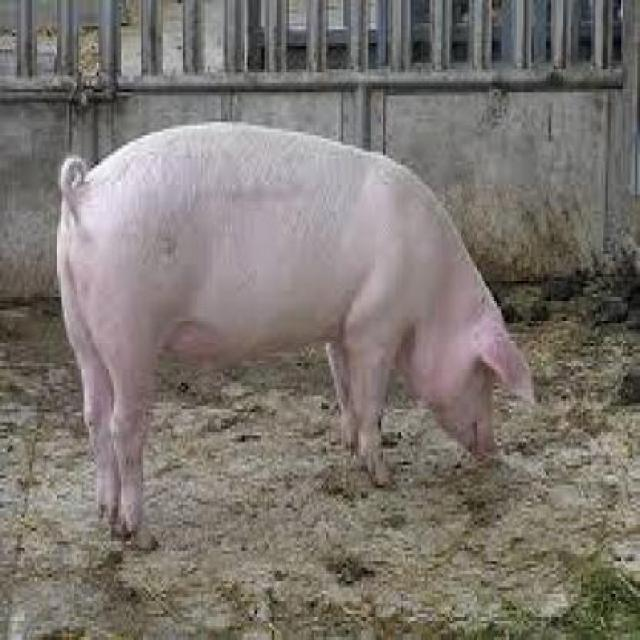Wild Boar: (45, 110, 545, 568)
